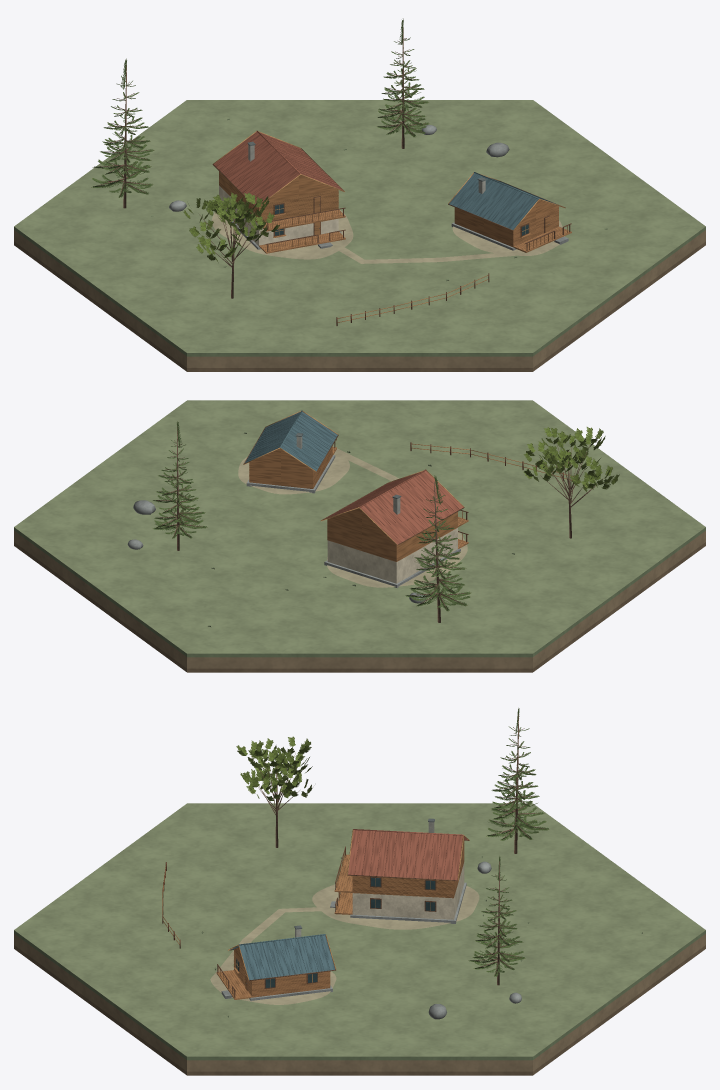
Rendered from caserio.glb.
The picture shows the model from 3 angles, top to bottom: view 1: azimuth 30°, elevation 25°; view 2: azimuth 150°, elevation 25°; view 3: azimuth 270°, elevation 25°; orthographic projection.
Visible parts, largest first — view 1: caserio.010 / 0, caserio.010 / 1, caserio.010 / 3, caserio.010 / 5, caserio.010 / 6, caserio.010 / 2; view 2: caserio.010 / 0, caserio.010 / 1, caserio.010 / 3, caserio.010 / 5, caserio.010 / 2, caserio.010 / 6; view 3: caserio.010 / 0, caserio.010 / 3, caserio.010 / 1, caserio.010 / 2, caserio.010 / 5, caserio.010 / 6.
Part boxes in pixels (x1,y1,x2,y2): caserio.010 / 0: (14,100,705,371); caserio.010 / 1: (98,27,571,325); caserio.010 / 3: (213,130,558,245); caserio.010 / 5: (91,18,429,197); caserio.010 / 6: (183,192,280,262); caserio.010 / 2: (169,125,568,250); caserio.010 / 0: (14,400,705,672); caserio.010 / 1: (156,411,603,622); caserio.010 / 3: (245,411,463,544); caserio.010 / 5: (152,421,471,611); caserio.010 / 2: (127,433,460,603); caserio.010 / 6: (523,427,619,491); caserio.010 / 0: (14,803,705,1075); caserio.010 / 3: (230,829,468,996); caserio.010 / 1: (162,714,544,999); caserio.010 / 2: (221,818,521,1019); caserio.010 / 5: (468,708,549,976); caserio.010 / 6: (236,736,312,800).
Bounding box in the file's own units: 3.46 × 1.08 × 4.
7 materials, 7 textured.
